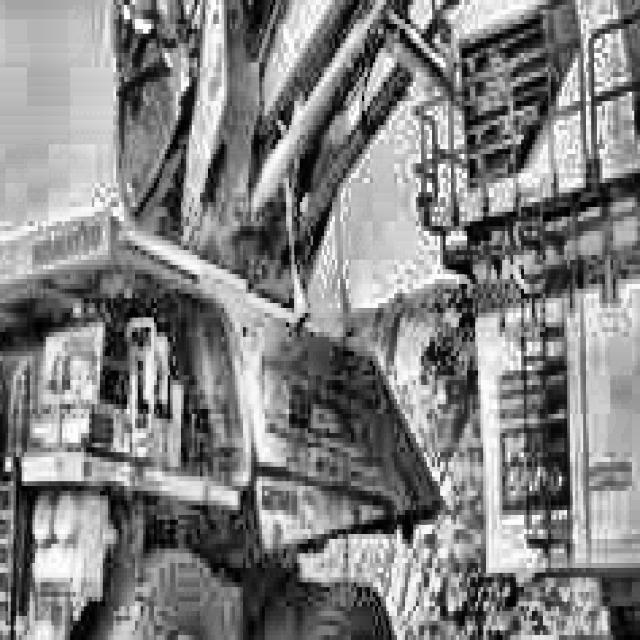dump_truck: (0, 187, 437, 640)
